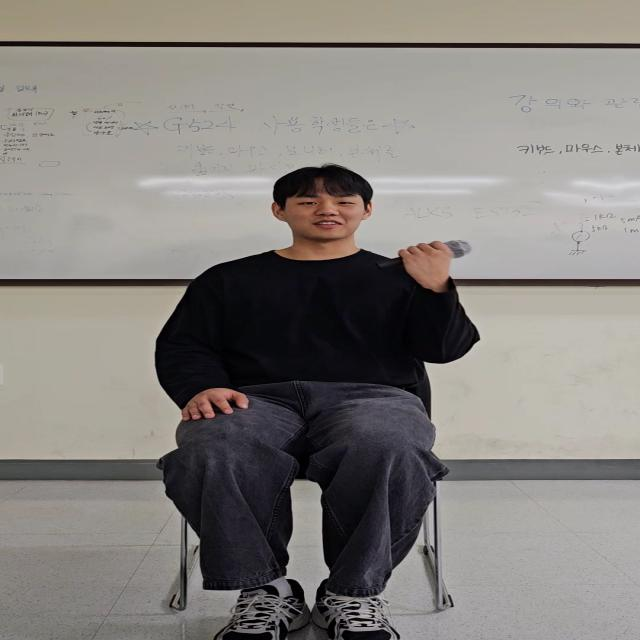curl: (368, 206, 497, 364)
